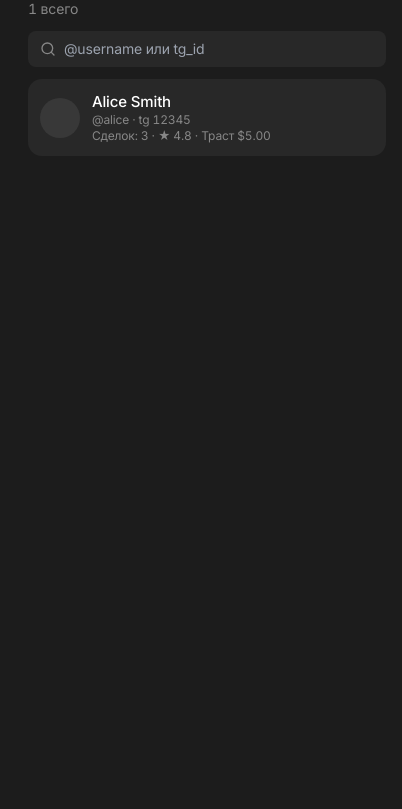
Test: <AdminUsersPage /> › clicking a user row navigates to /admin/users/<id>
The width and height of the screenshot is (402, 809).
Click the text "Alice Smith": (132, 102) [92,91,171,112]
(page scrolled)
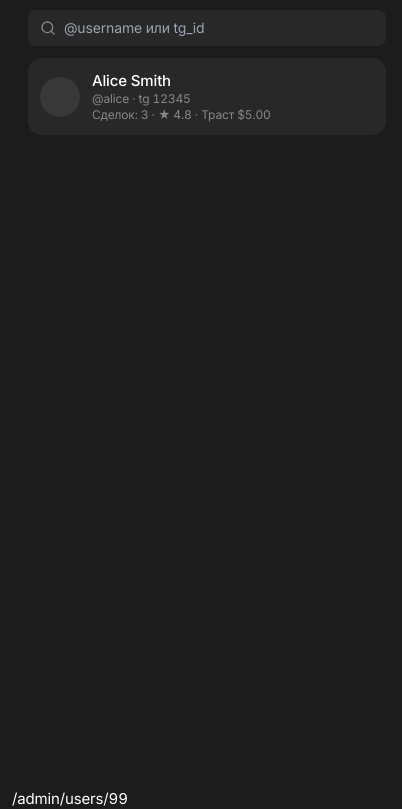
Now the text with test id "path" reads "/admin/users/99", box [12,789,128,808]
